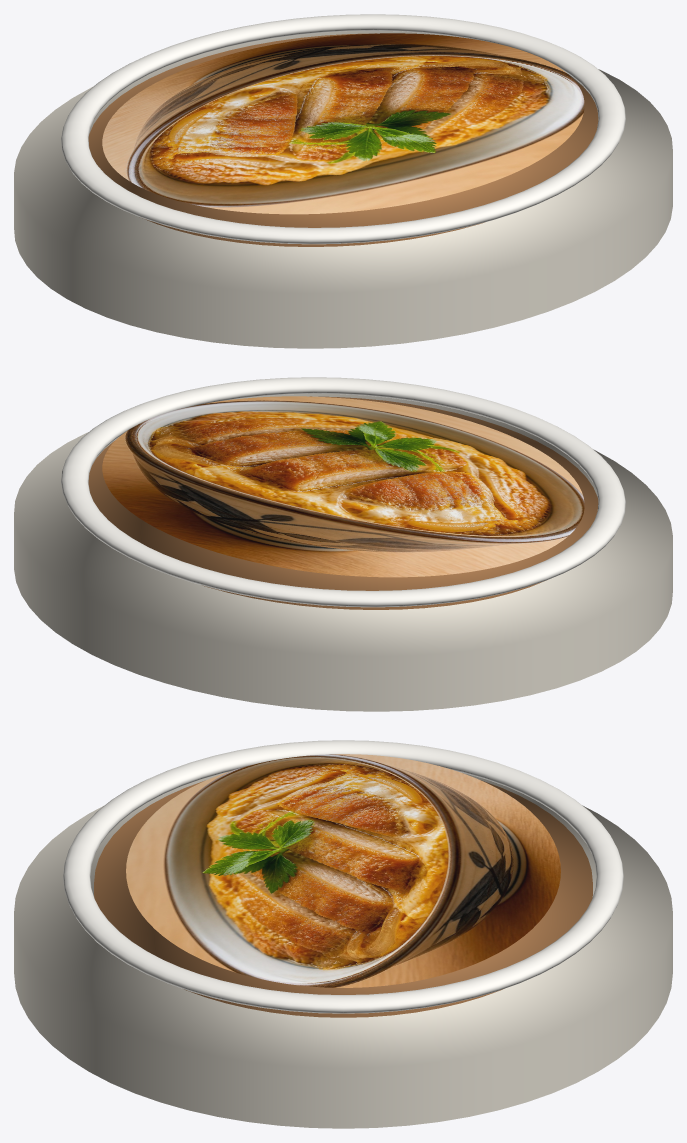
File: katsudon.glb
3 views of the same model, one above another, from view 1: azimuth 30°, elevation 25°; view 2: azimuth 150°, elevation 25°; view 3: azimuth 270°, elevation 25° (orthographic). The views are drawn at different scales.
Bounding box in the file's own units: 2.24 × 0.4158 × 2.
Materials: 4 (1 with a texture image).
